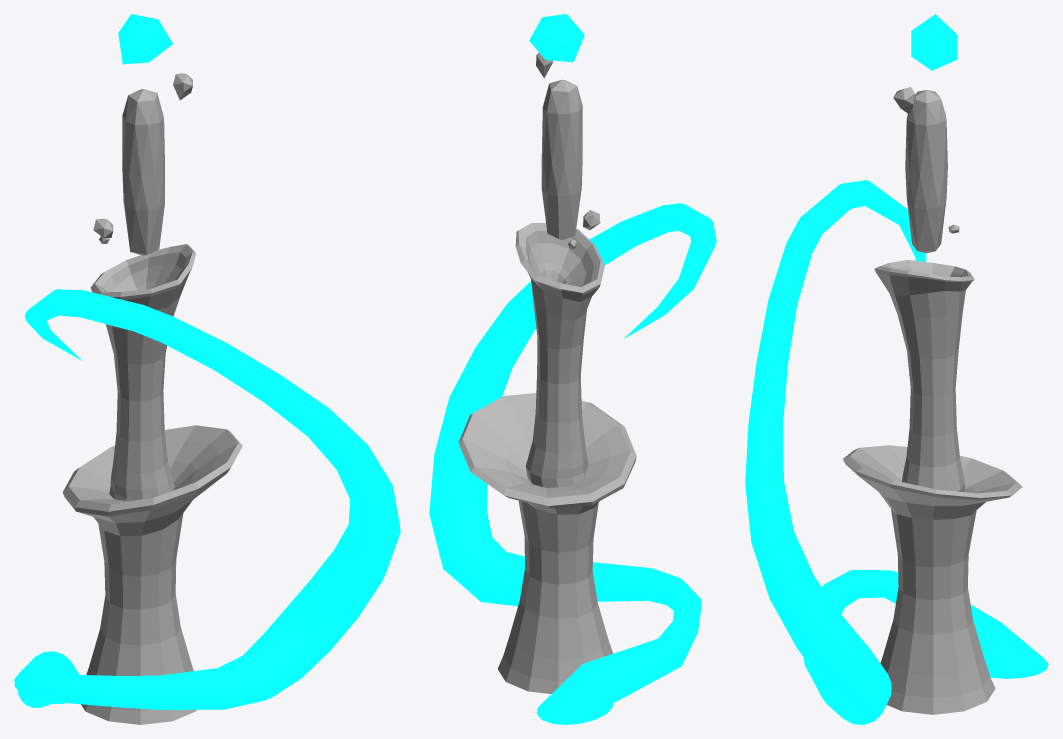
File: lvl2W.fbx
3 renders of one model, left to right at view 1: azimuth 30°, elevation 25°; view 2: azimuth 150°, elevation 25°; view 3: azimuth 270°, elevation 25°, orthographic. The views are drawn at different scales.
Parts seen in each view (by area): view 1: lvl2W; view 2: lvl2W; view 3: lvl2W.
Part boxes in pixels (x1=…): lvl2W: x1=14, y1=14, x2=400, y2=724; lvl2W: x1=429, y1=14, x2=716, y2=724; lvl2W: x1=745, y1=14, x2=1048, y2=724.
Bounding box in the file's own units: 565 × 1190 × 486.
